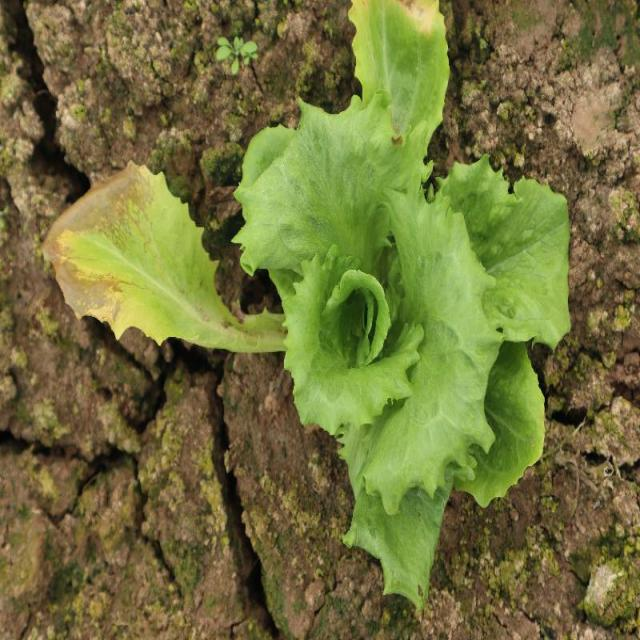crop: (229, 0, 572, 612)
